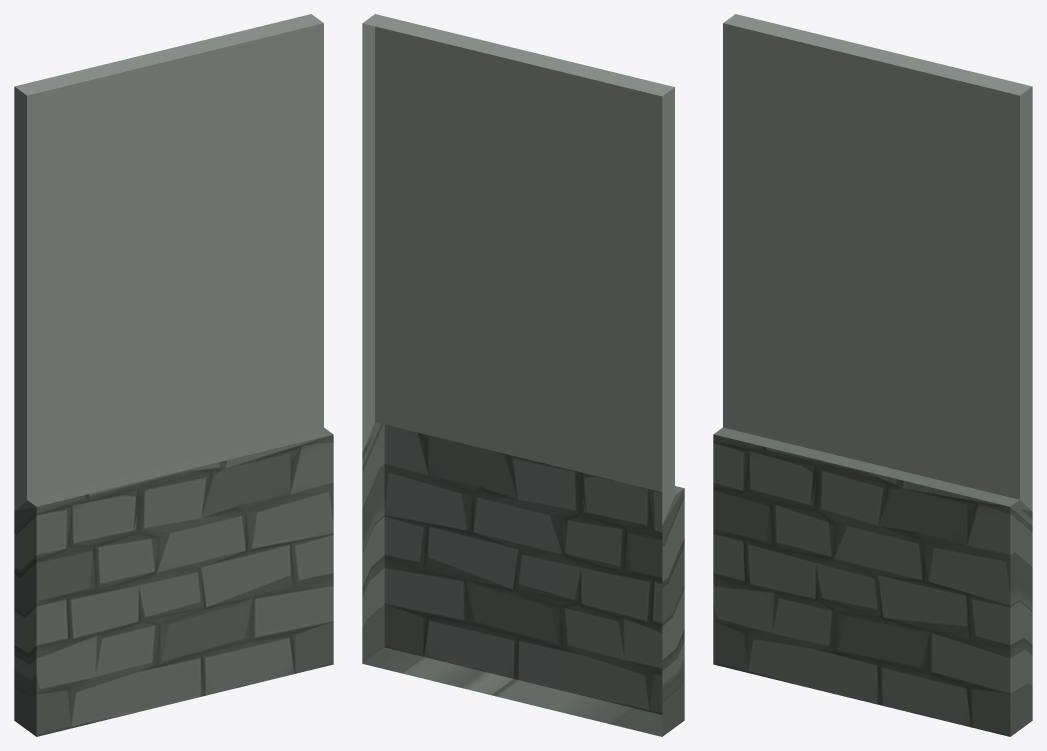
File: SM_Env_Wall_17.fbx
3 views of the same model, side by side, from view 1: azimuth 30°, elevation 25°; view 2: azimuth 150°, elevation 25°; view 3: azimuth 330°, elevation 25° (orthographic).
Parts seen in each view (by area): view 1: SM_Env_Wall_17; view 2: SM_Env_Wall_17; view 3: SM_Env_Wall_17.
Boxes of the visible parts, x1,y1,x2,y2 form: SM_Env_Wall_17: (14,14,333,736); SM_Env_Wall_17: (362,14,684,736); SM_Env_Wall_17: (713,14,1032,736).
Bounding box in the file's own units: 137 × 280 × 17.73.
Materials: 1 (1 with a texture image).
